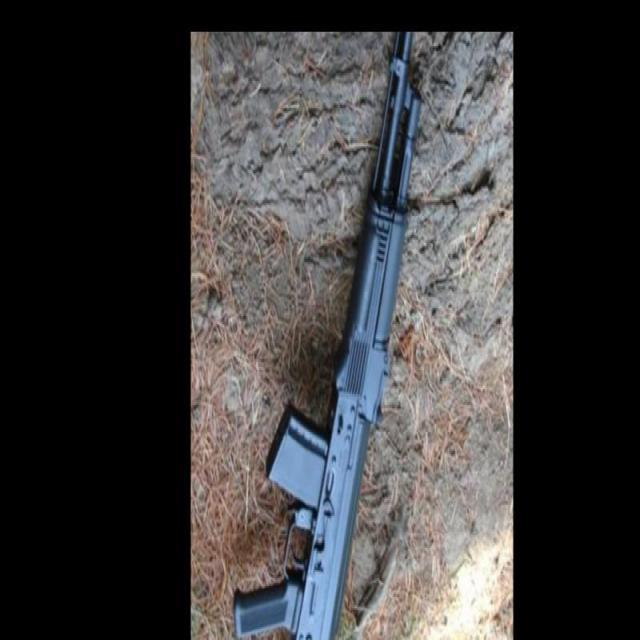weapon: (233, 35, 423, 640)
